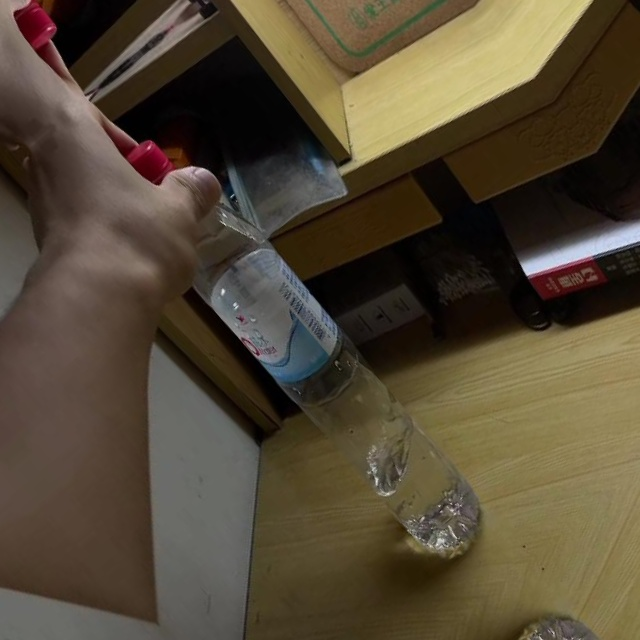Water: (98, 118, 503, 576)
